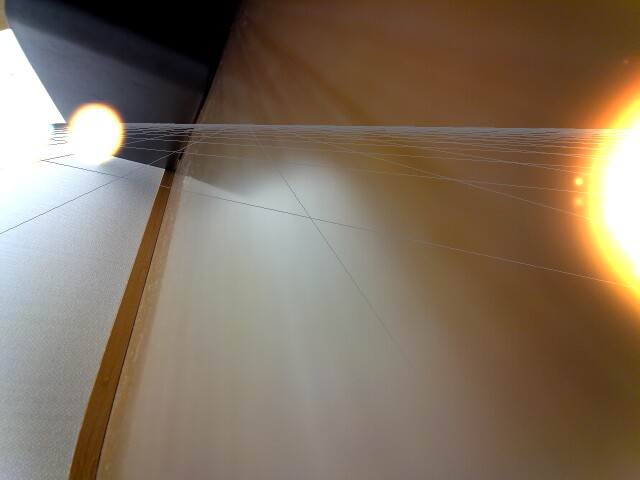firebig: (564, 56, 640, 325)
